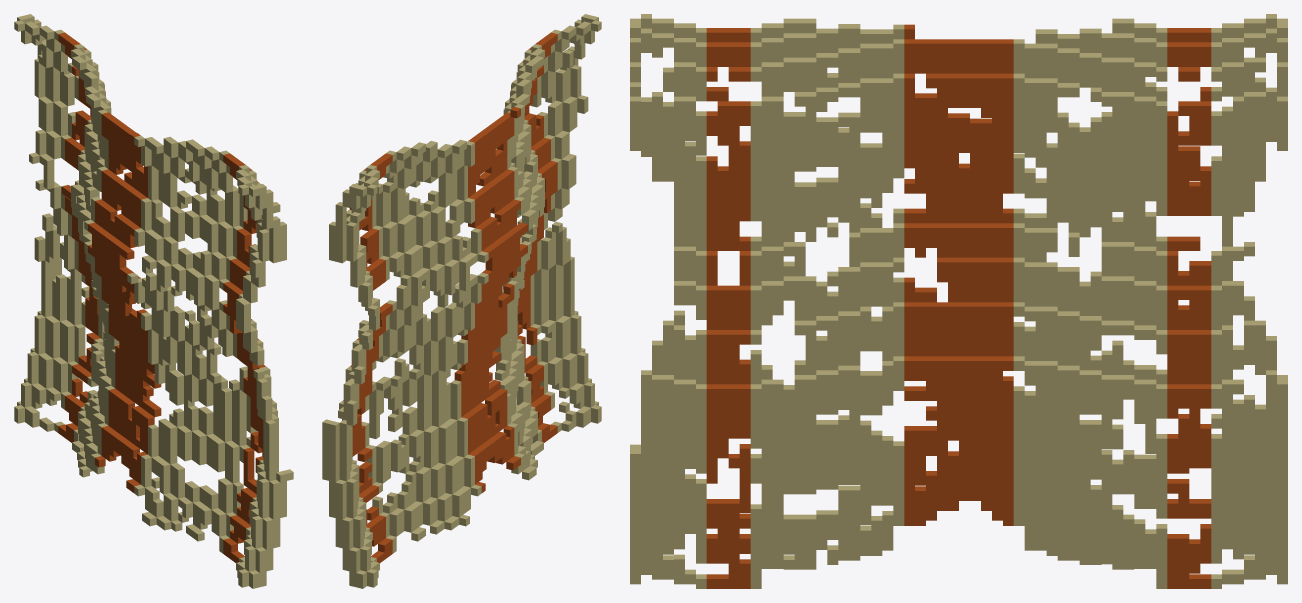
Rendered from ship-1.obj.
3 renders of one model, left to right at view 1: azimuth 30°, elevation 25°; view 2: azimuth 150°, elevation 25°; view 3: azimuth 270°, elevation 25°, orthographic. The views are drawn at different scales.
Size of the model in its own units: 1.1 by 5.6 by 6.
Materials: 1 (1 with a texture image).
